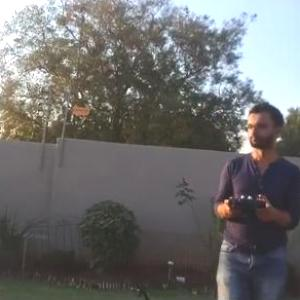follow: (208, 97, 299, 299)
